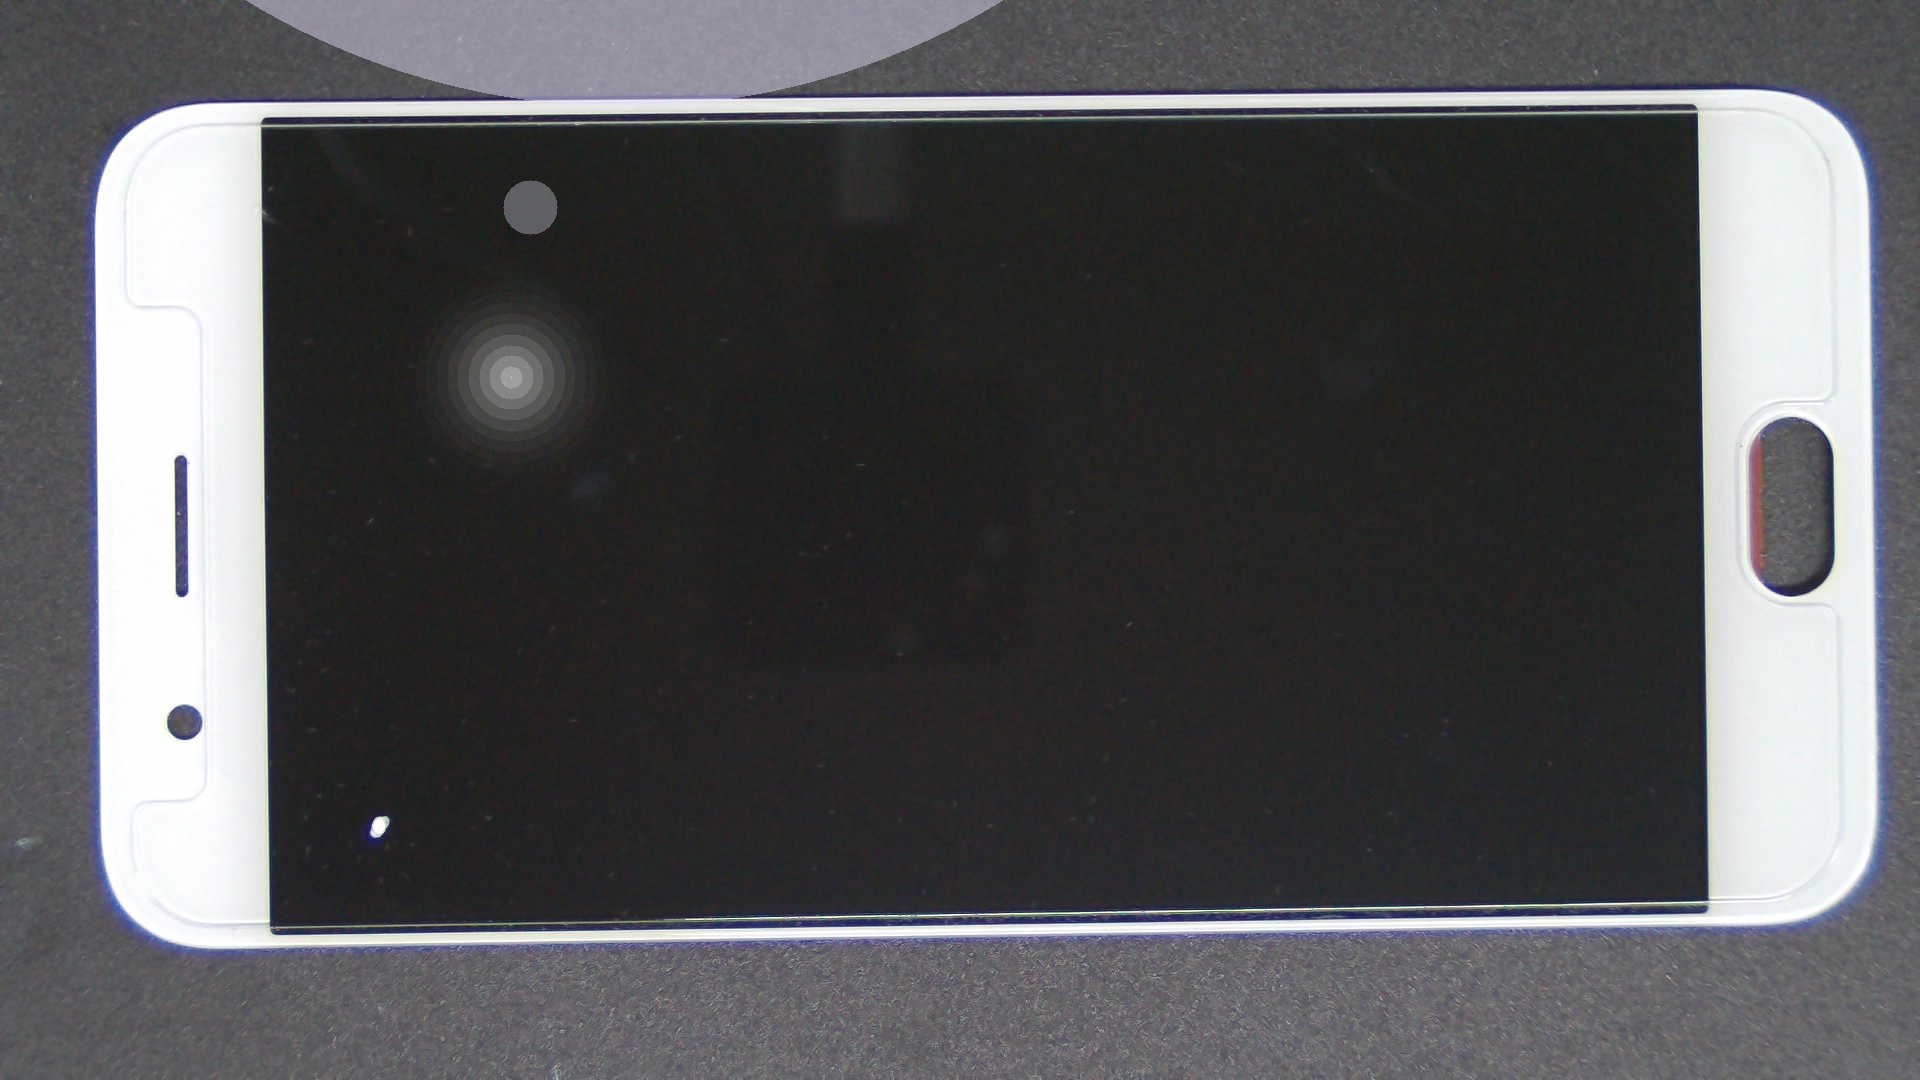oil: (190, 406, 563, 1080)
